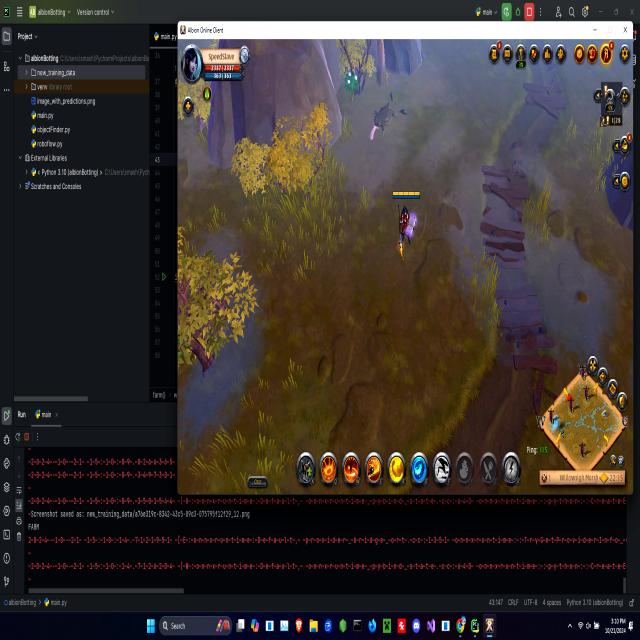hide: (340, 66, 362, 99)
red: (391, 184, 427, 270)
